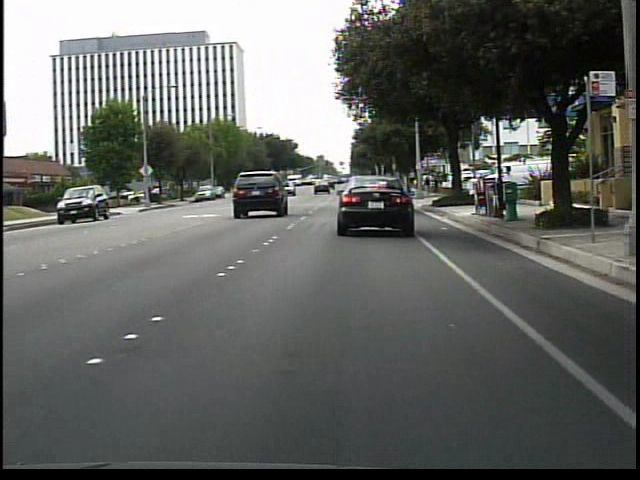person: (424, 174, 434, 196), (432, 174, 441, 194)
